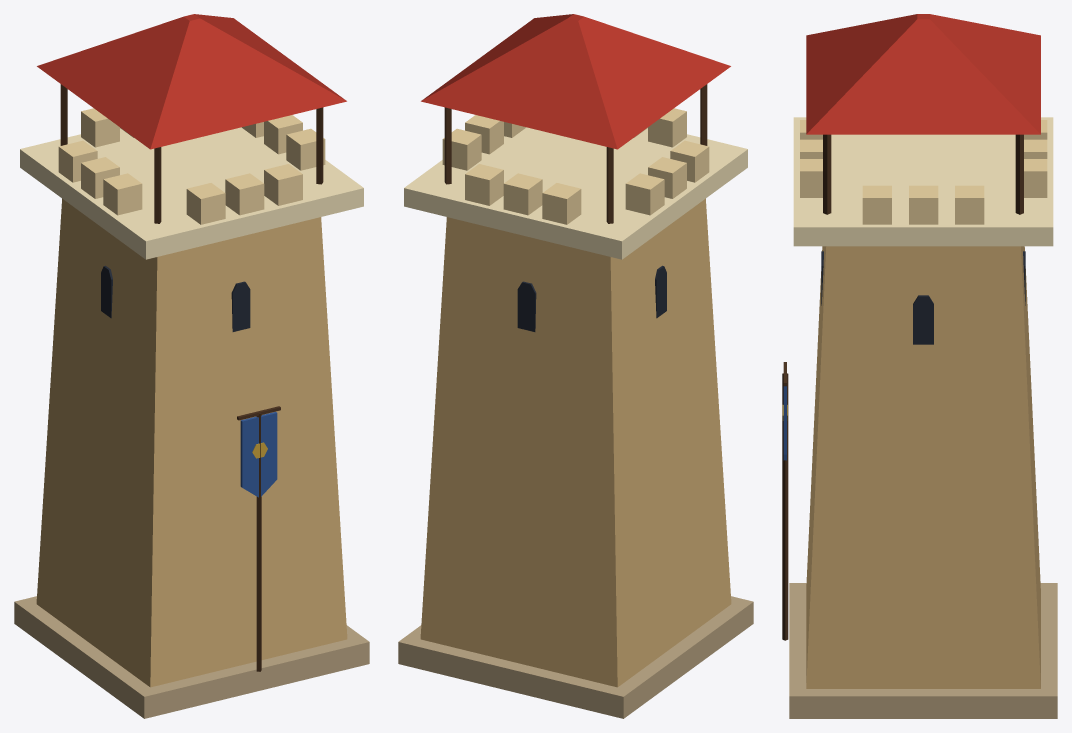
The model's file is tower_watch_square.fbx.
3 views of the same model, side by side, from view 1: azimuth 30°, elevation 25°; view 2: azimuth 150°, elevation 25°; view 3: azimuth 270°, elevation 25° (orthographic). The views are drawn at different scales.
Visible parts, largest first — view 1: tower_watch_square; view 2: tower_watch_square; view 3: tower_watch_square.
Part boxes in pixels (box(x1,y1,x2,y2)): tower_watch_square: box(14, 14, 369, 718); tower_watch_square: box(398, 14, 753, 718); tower_watch_square: box(782, 14, 1057, 718).
Bounding box in the file's own units: 6.4 × 17 × 6.57.
Materials: 1 (1 with a texture image).
